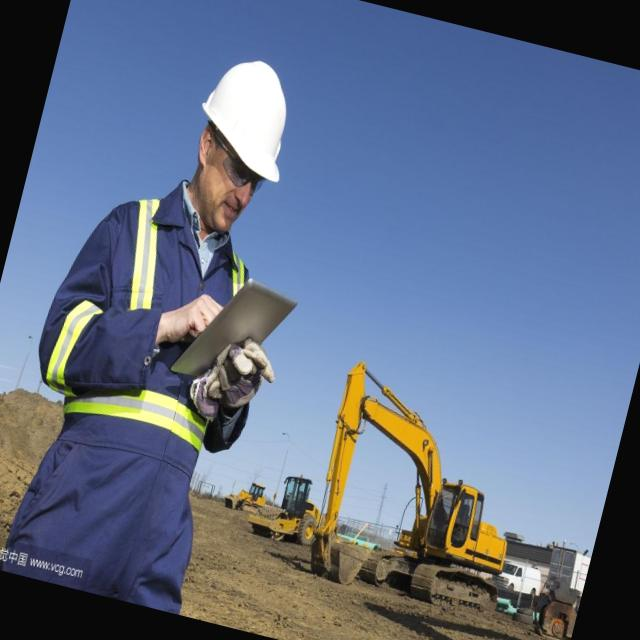helmet: (183, 46, 310, 195)
